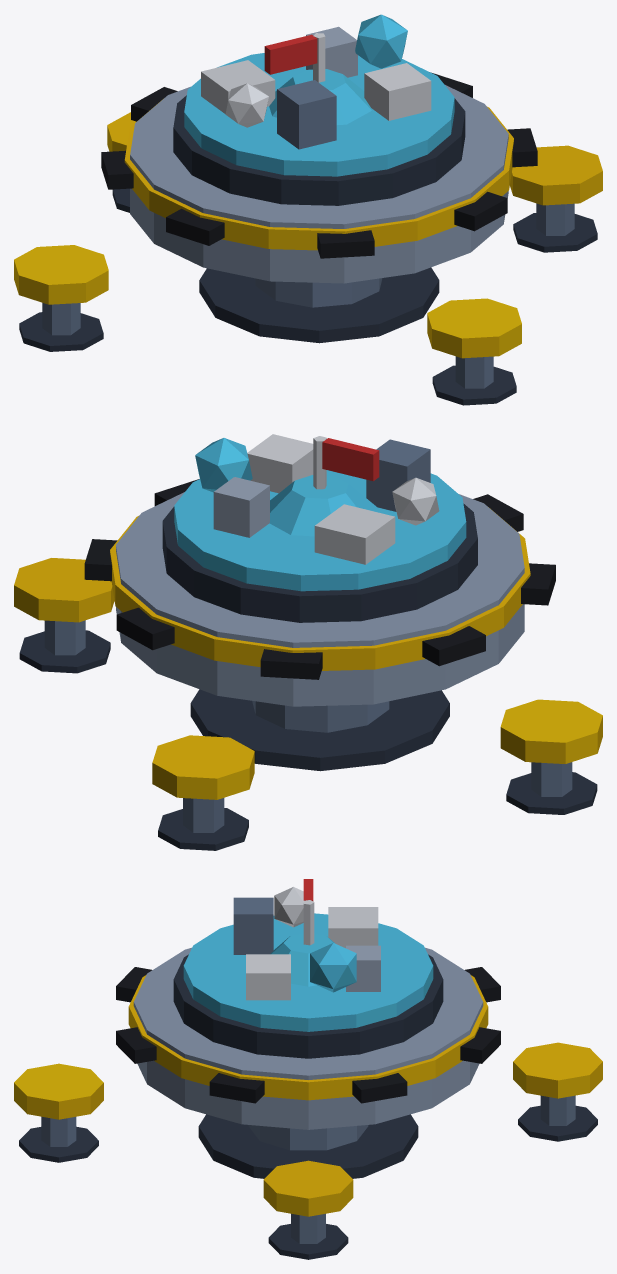
File: Decor_MechaHangar_StrategyTable.fbx
3 renders of one model, top to bottom at view 1: azimuth 30°, elevation 25°; view 2: azimuth 150°, elevation 25°; view 3: azimuth 270°, elevation 25°, orthographic. The views are drawn at different scales.
Parts seen in each view (by area): view 1: StrategyTable_Body; view 2: StrategyTable_Body; view 3: StrategyTable_Body.
Boxes of the visible parts, x1,y1,x2,y2 form: StrategyTable_Body: (14,14,602,405); StrategyTable_Body: (14,434,602,850); StrategyTable_Body: (14,879,602,1259).
Bounding box in the file's own units: 11.8 × 5.2 × 11.8.
